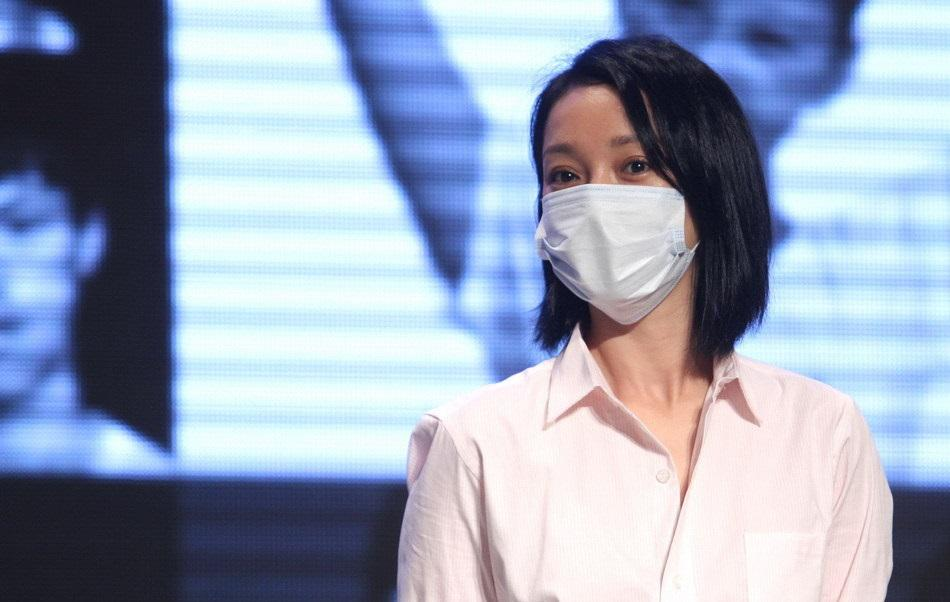OK: (540, 113, 698, 322)
